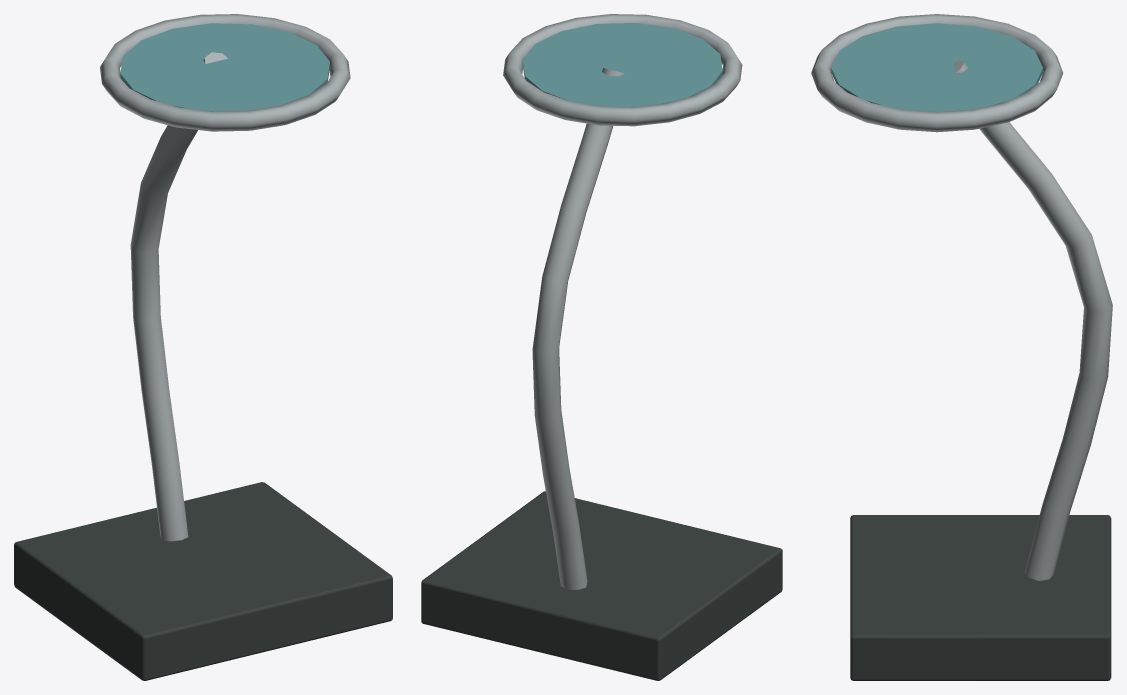
The model's file is research-and-crafting-progression-bench-magnifier-62c4c4ce__2844.glb.
3 renders of one model, left to right at view 1: azimuth 30°, elevation 25°; view 2: azimuth 150°, elevation 25°; view 3: azimuth 270°, elevation 25°, orthographic. The views are drawn at different scales.
Visible parts, largest first — view 1: bench-magnifier; view 2: bench-magnifier; view 3: bench-magnifier.
Boxes of the visible parts, left/top/right/bottom form: bench-magnifier: left=14, top=14, right=392, bottom=680; bench-magnifier: left=421, top=14, right=782, bottom=680; bench-magnifier: left=811, top=14, right=1112, bottom=680.
Bounding box in the file's own units: 0.2 × 0.4251 × 0.2082.
